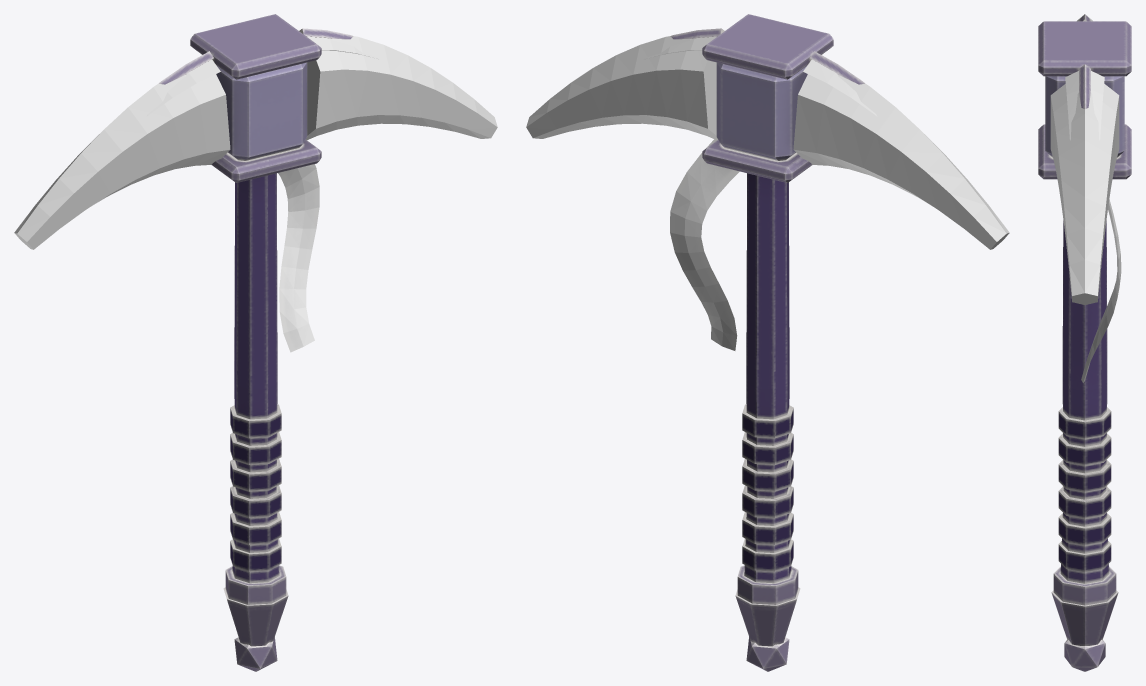
The model's file is PrismPickaxe.glb.
The picture shows the model from 3 angles, left to right: view 1: azimuth 30°, elevation 25°; view 2: azimuth 150°, elevation 25°; view 3: azimuth 270°, elevation 25°; orthographic projection.
Parts seen in each view (by area): view 1: Body__Tex, Head__Crystal, Head__Accent; view 2: Body__Tex, Head__Crystal, Head__Accent; view 3: Body__Tex, Head__Crystal, Head__Accent.
Part boxes in pixels (left/top/right/bottom): Body__Tex: left=159, top=14, right=353, bottom=671; Head__Crystal: left=14, top=36, right=497, bottom=249; Head__Accent: left=147, top=36, right=379, bottom=115; Body__Tex: left=670, top=14, right=864, bottom=671; Head__Crystal: left=526, top=36, right=1009, bottom=249; Head__Accent: left=644, top=36, right=876, bottom=115; Body__Tex: left=1038, top=14, right=1131, bottom=671; Head__Crystal: left=1050, top=14, right=1119, bottom=304; Head__Accent: left=1065, top=71, right=1104, bottom=140.
Bounding box in the file's own units: 3.19 × 4.04 × 0.54.
1 material, 1 textured.
